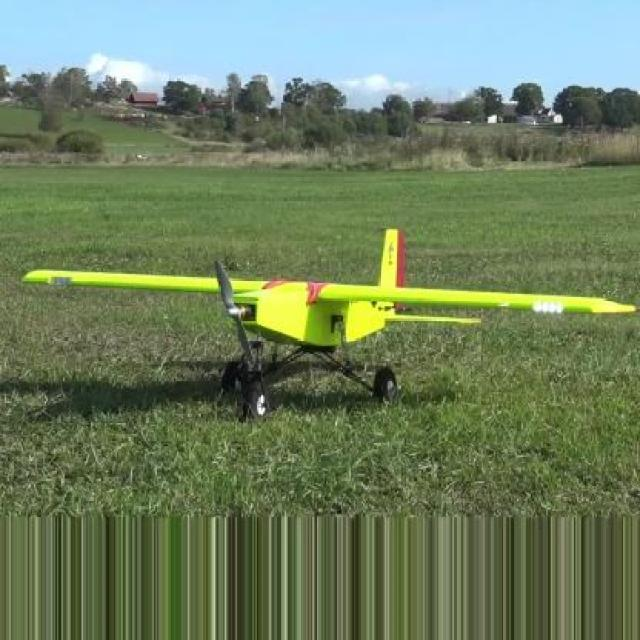iha: (8, 225, 634, 421)
